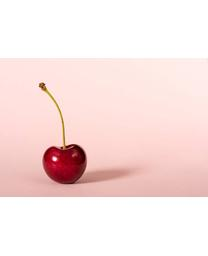cherry: (43, 144, 87, 185)
